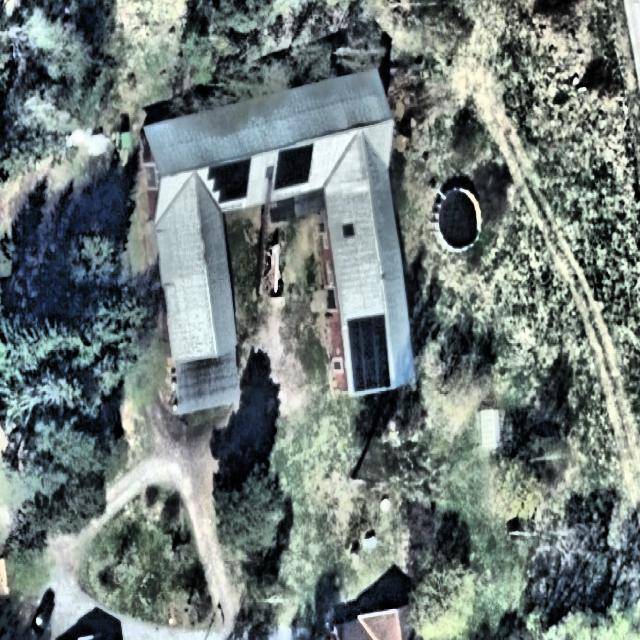roof_pv: (344, 313, 394, 395), (202, 152, 259, 206), (274, 135, 316, 201)
